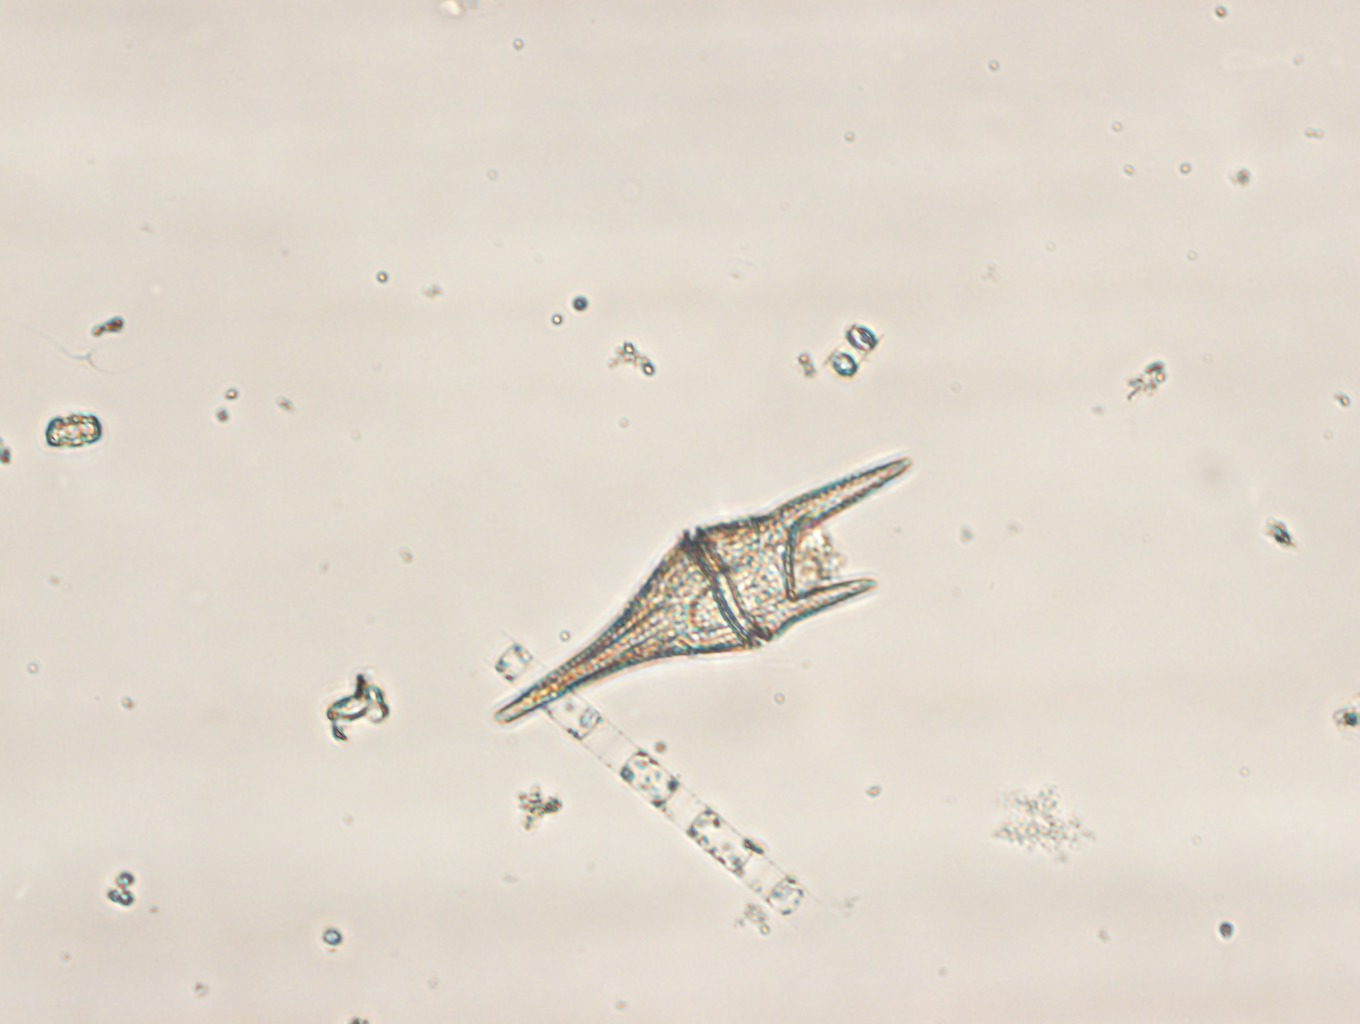coscinodiscus: (492, 457, 914, 727)
skeletonema: (482, 636, 807, 918)
